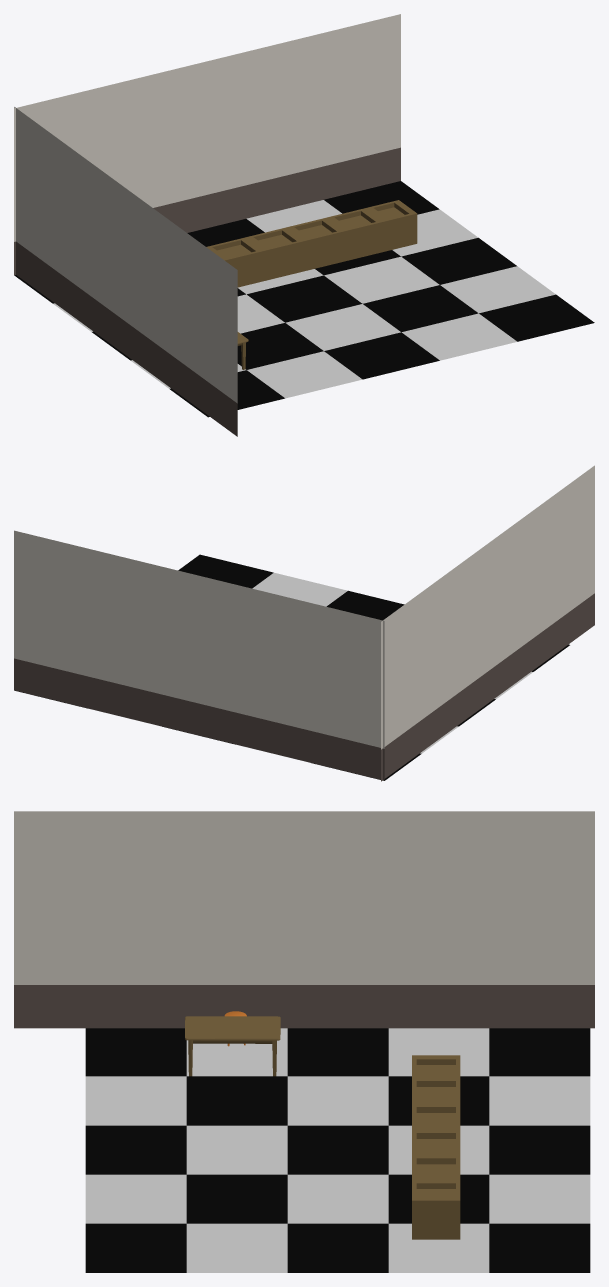
File: medellin.fbx
3 views of the same model, one above another, from view 1: azimuth 30°, elevation 25°; view 2: azimuth 150°, elevation 25°; view 3: azimuth 270°, elevation 25° (orthographic). The views are drawn at different scales.
Visible parts, largest first — view 1: Plane002, Plane001, Box001; view 2: Plane002, Plane001; view 3: Plane002, Plane001, Box001, Table.
Boxes of the visible parts, x1=… form: Plane002: x1=14, y1=14, x2=400, y2=436; Plane001: x1=14, y1=181, x2=594, y2=417; Box001: x1=206, y1=200, x2=417, y2=287; Plane002: x1=14, y1=465, x2=594, y2=781; Plane001: x1=15, y1=554, x2=569, y2=780; Plane002: x1=14, y1=811, x2=594, y2=1028; Plane001: x1=85, y1=1028, x2=590, y2=1272; Box001: x1=412, y1=1055, x2=460, y2=1239; Table: x1=185, y1=1016, x2=280, y2=1076.
Bounding box in the file's own units: 435 × 180 × 435.
